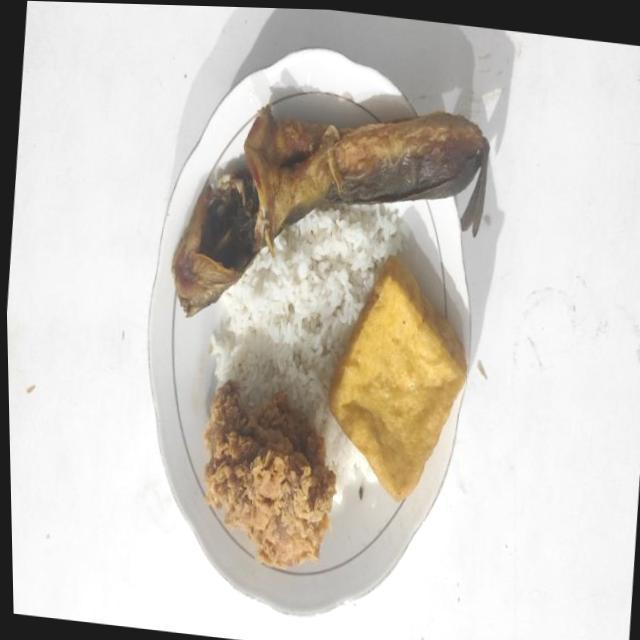nasi_putih: (210, 203, 401, 504)
tahu_goreng: (328, 255, 467, 500)
